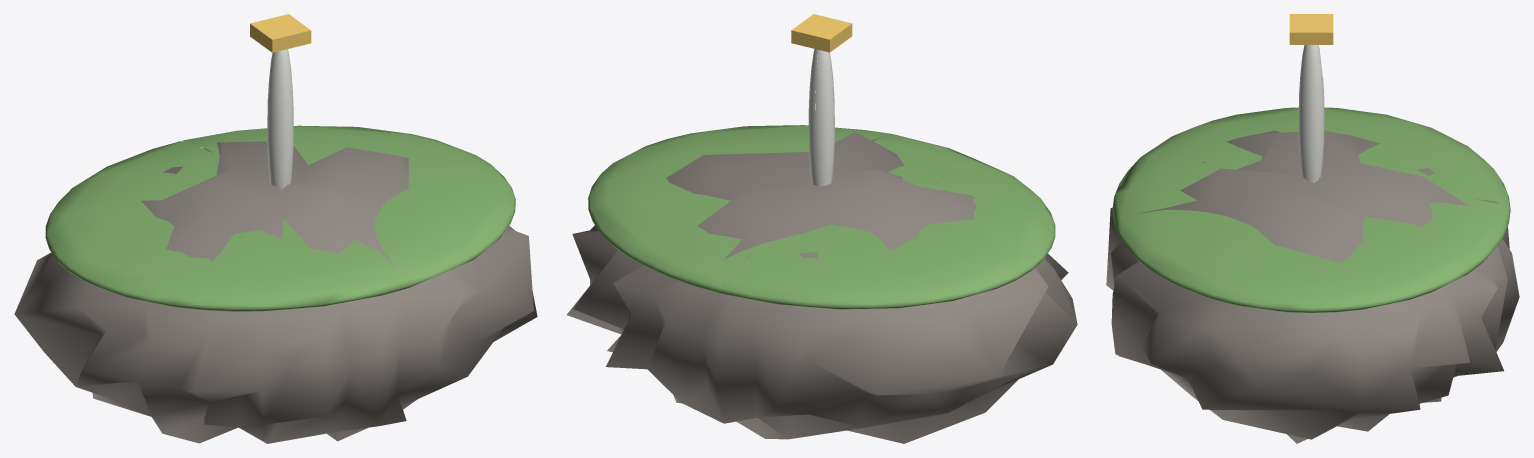
File: sp_isl2.glb
3 views of the same model, side by side, from view 1: azimuth 30°, elevation 25°; view 2: azimuth 150°, elevation 25°; view 3: azimuth 270°, elevation 25° (orthographic). The views are drawn at different scales.
Bounding box in the file's own units: 12.61 × 10.54 × 10.38.
